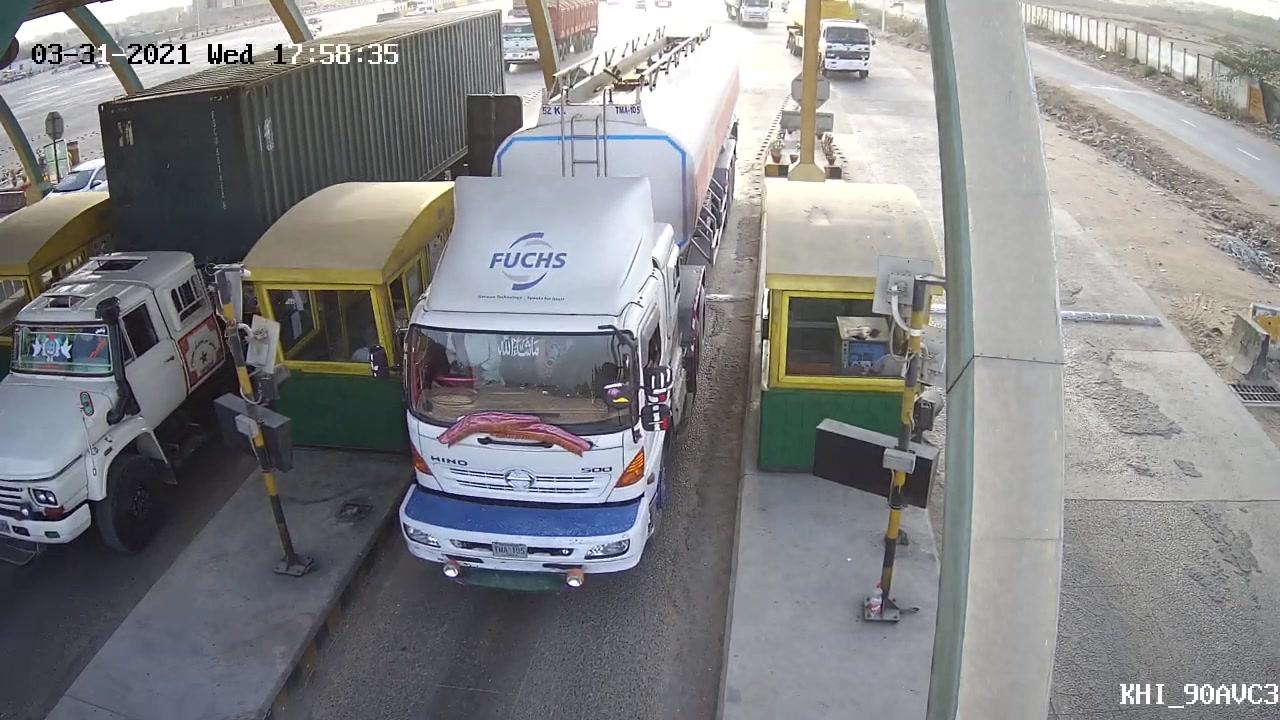F6: (388, 17, 750, 608)
